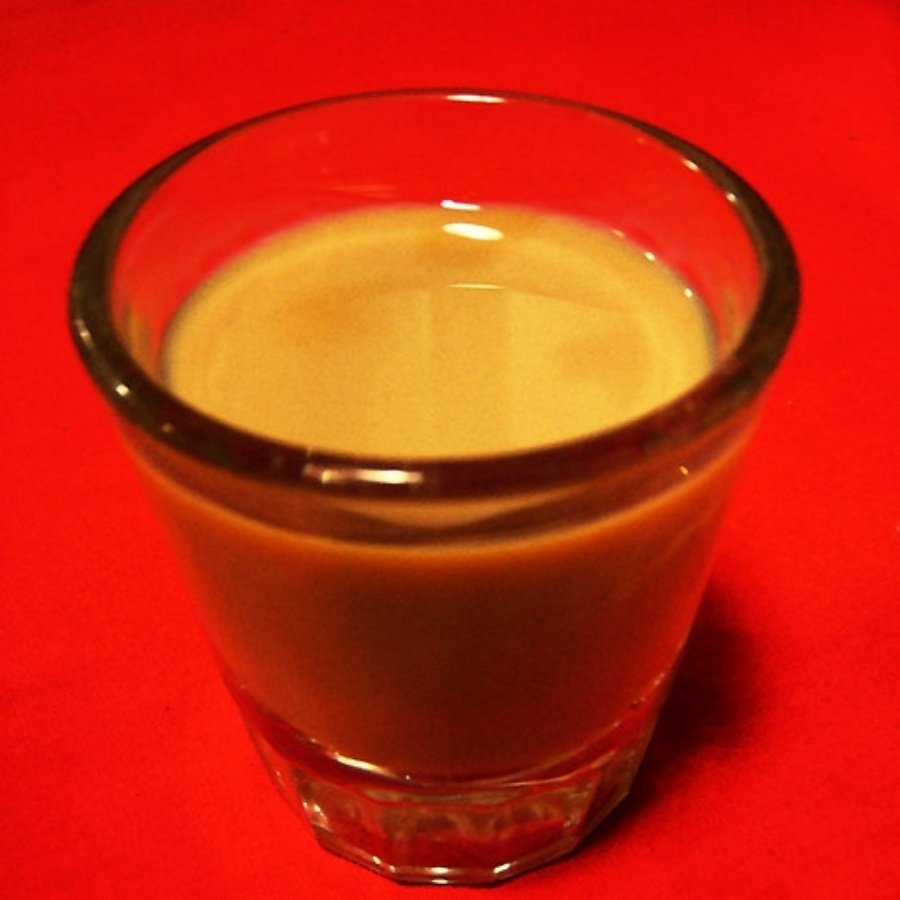whiskey: (87, 102, 767, 899)
